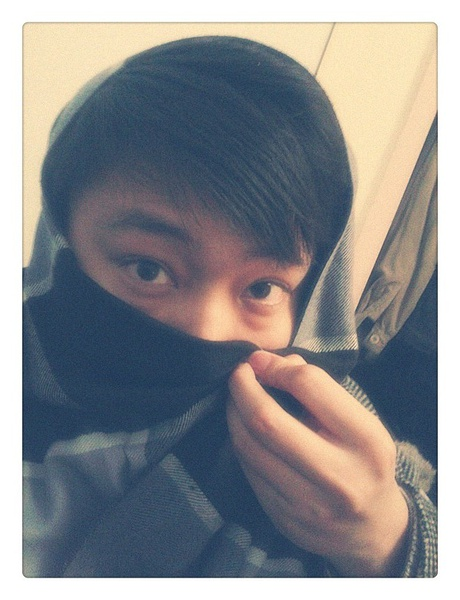face_mask: (69, 140, 306, 436)
